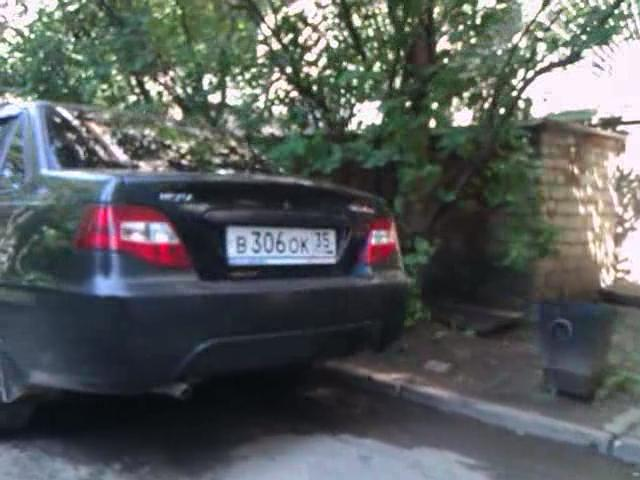car license plate: (224, 217, 341, 275)
